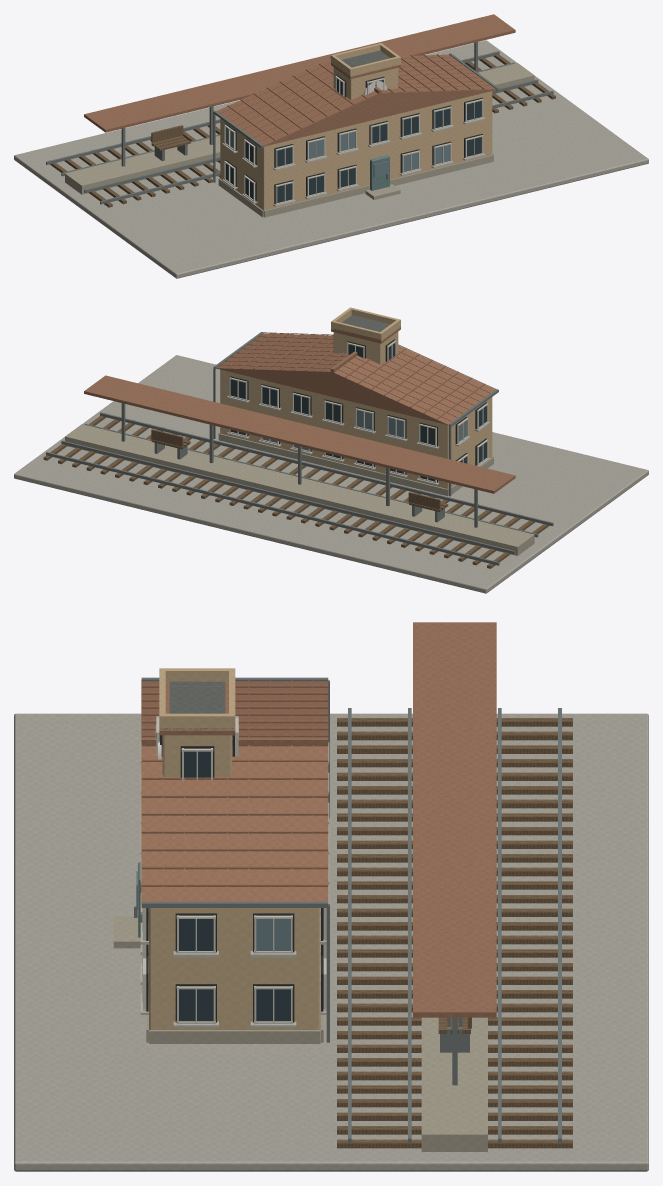
The model's file is EXP_RAIL_STATION.glb.
3 renders of one model, top to bottom at view 1: azimuth 30°, elevation 25°; view 2: azimuth 150°, elevation 25°; view 3: azimuth 270°, elevation 25°, orthographic. The views are drawn at different scales.
Visible parts, largest first — view 1: EXP_RAIL_STATION_Visual; view 2: EXP_RAIL_STATION_Visual; view 3: EXP_RAIL_STATION_Visual.
Part boxes in pixels (left/top/right/bottom): EXP_RAIL_STATION_Visual: left=14, top=14, right=648, bottom=278; EXP_RAIL_STATION_Visual: left=14, top=307, right=648, bottom=593; EXP_RAIL_STATION_Visual: left=14, top=622, right=648, bottom=1171.
Size of what is drawn, in the model's own units: 9.92 by 2.63 by 5.92.
15 materials, 10 textured.
